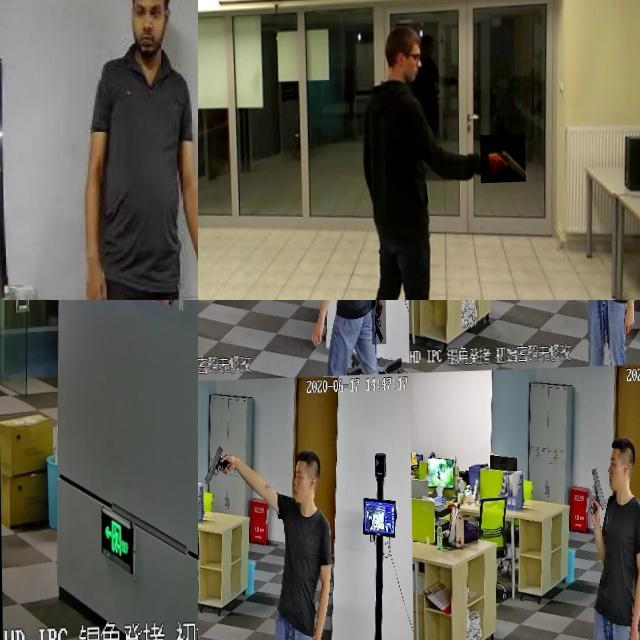gun-knife-thesis - v11 Yolov5 augmented: (479, 138, 525, 187), (201, 444, 230, 490), (582, 469, 602, 520), (370, 300, 385, 346), (518, 300, 542, 326)
